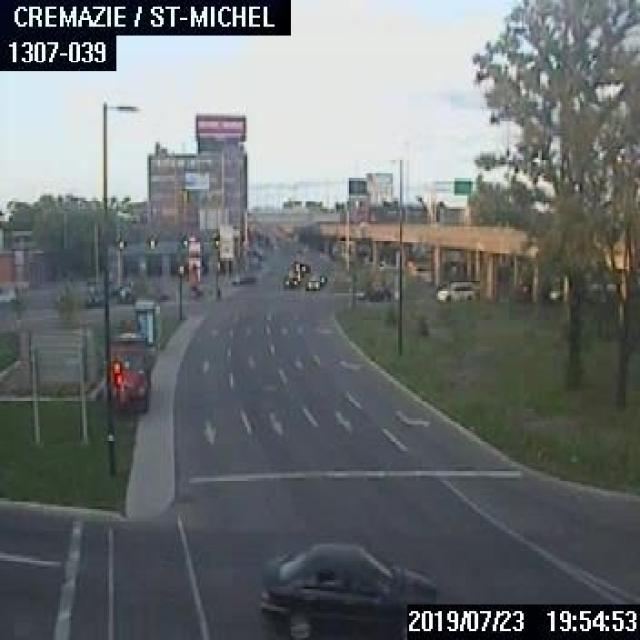vehicle: (258, 538, 436, 638), (433, 278, 476, 300), (351, 280, 391, 300), (282, 269, 297, 285), (304, 273, 318, 289)
